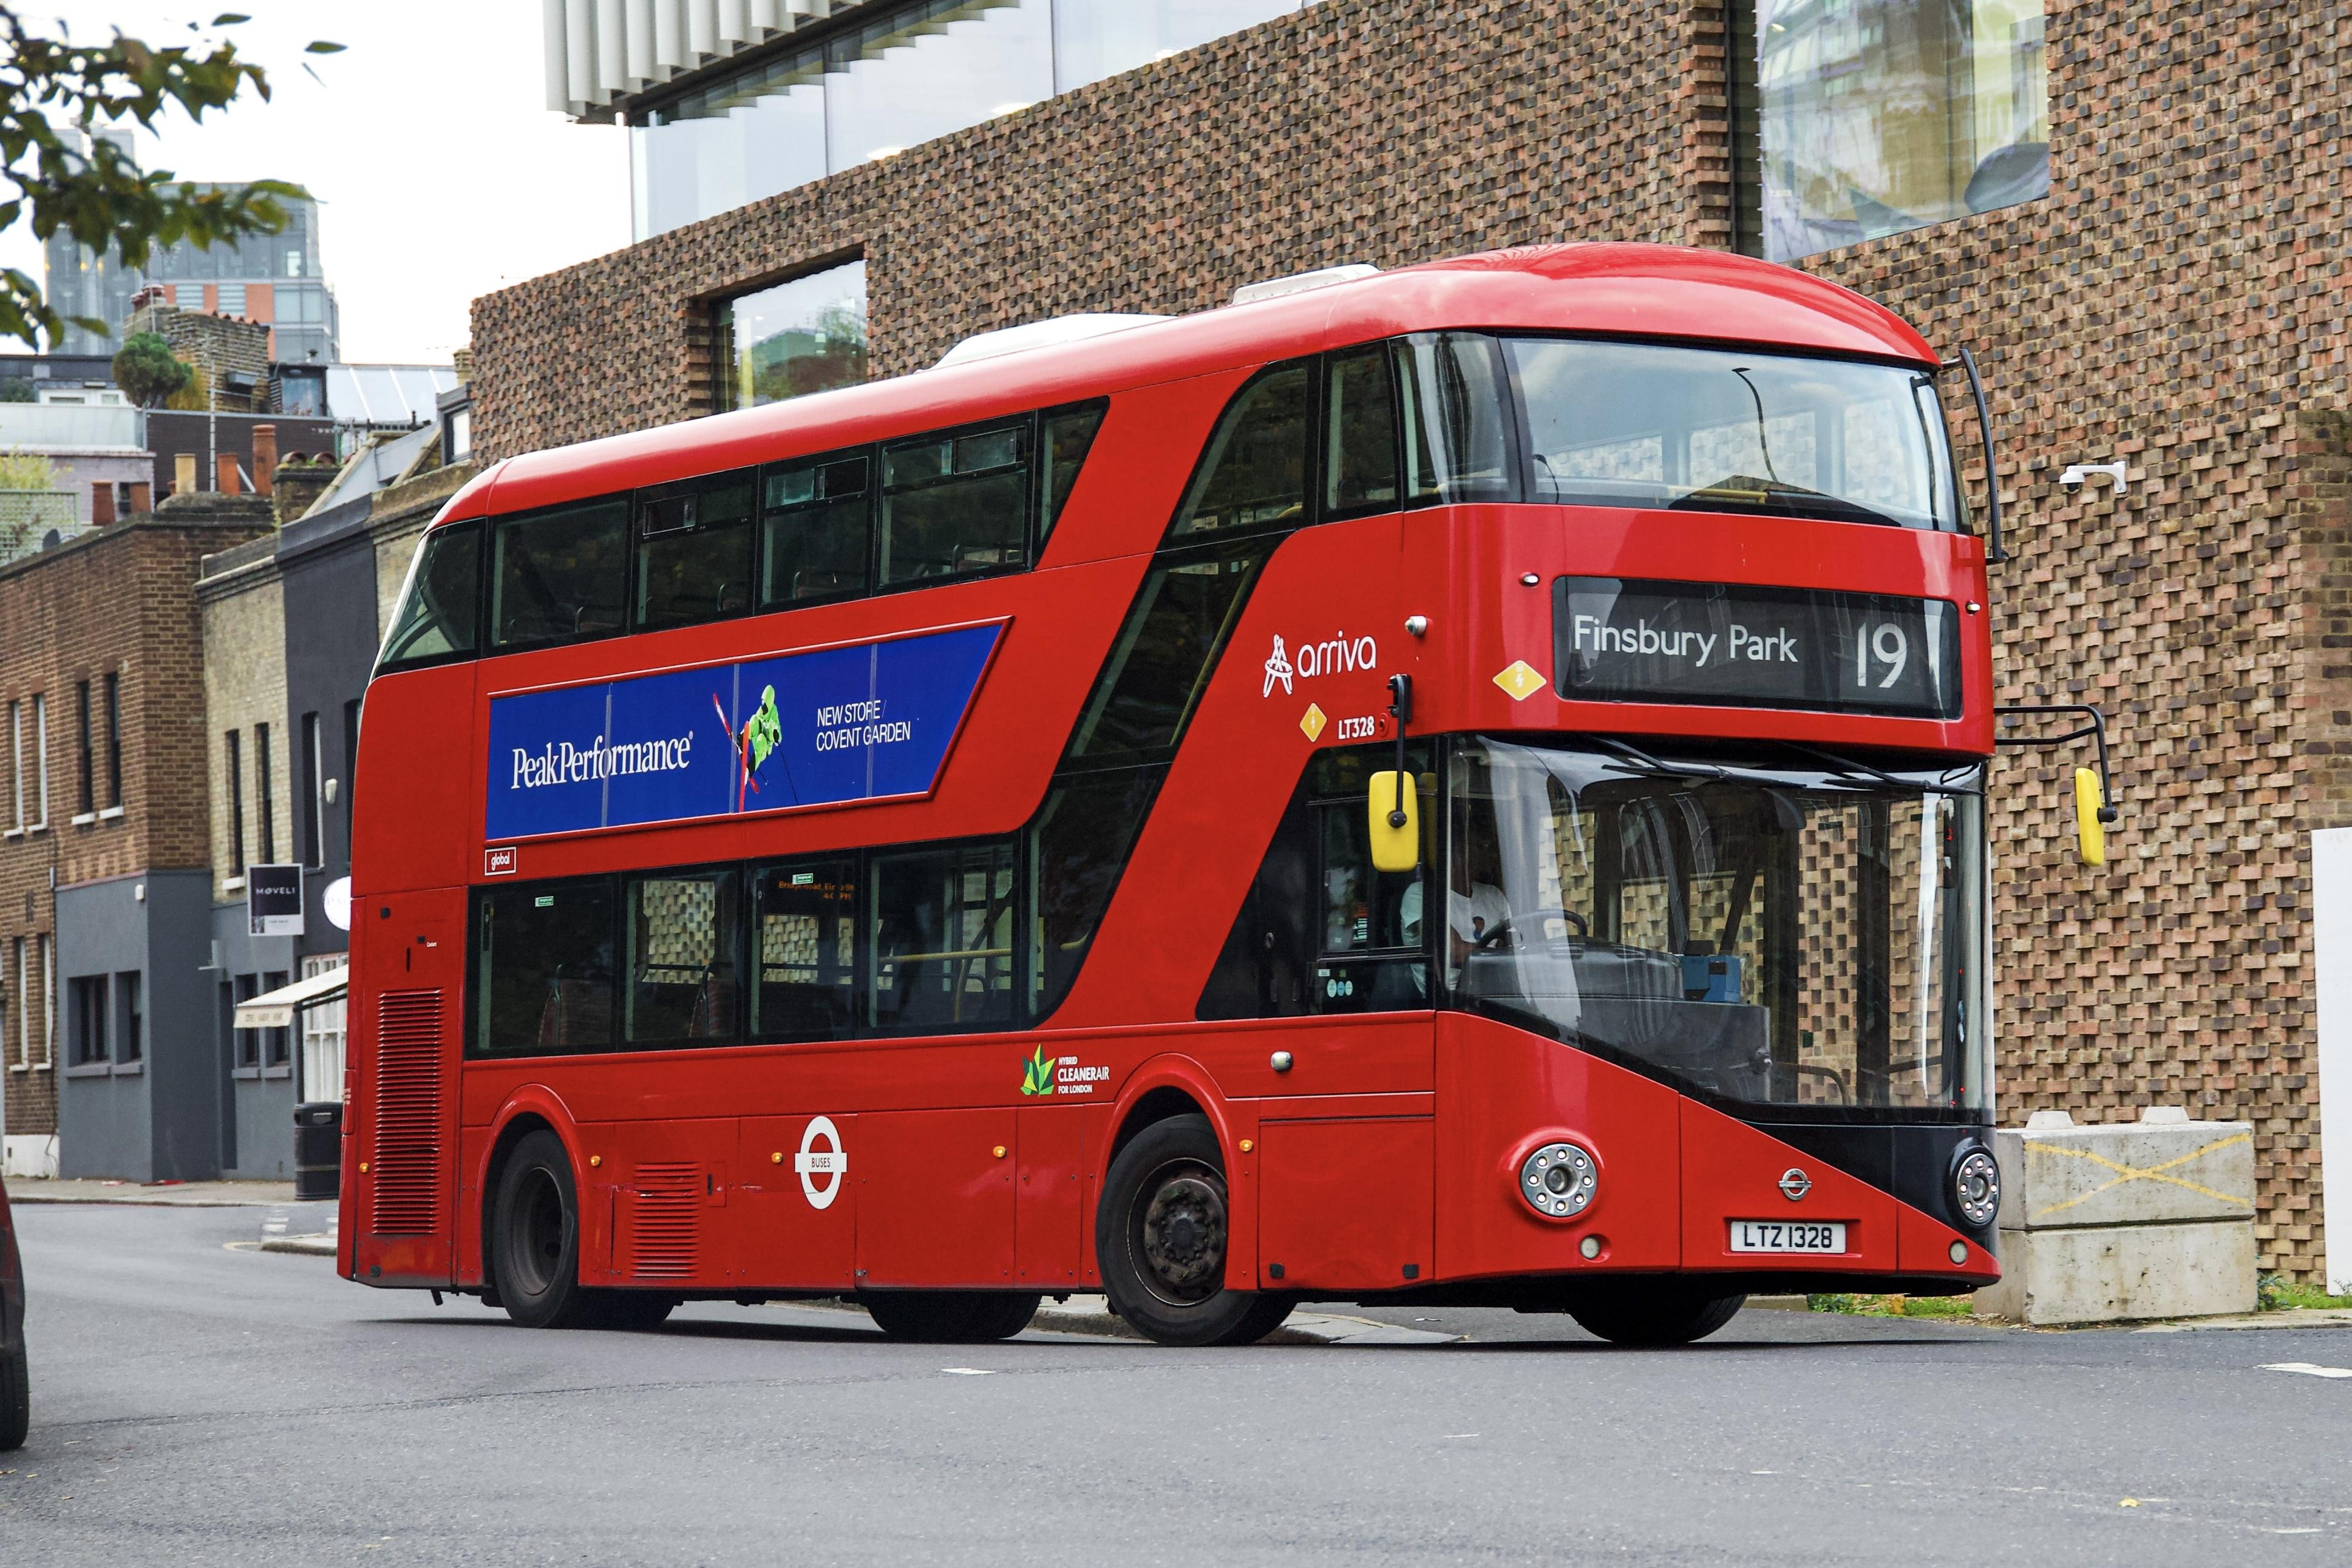bus: (334, 229, 2135, 1391)
